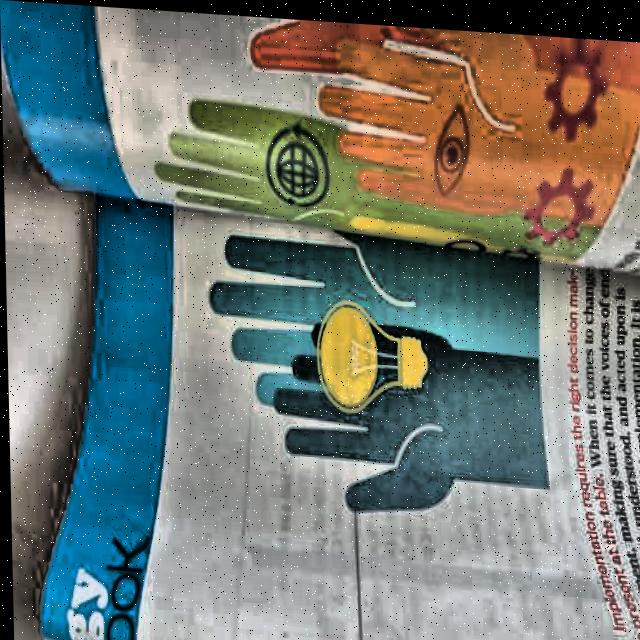paper: (4, 0, 640, 640)
